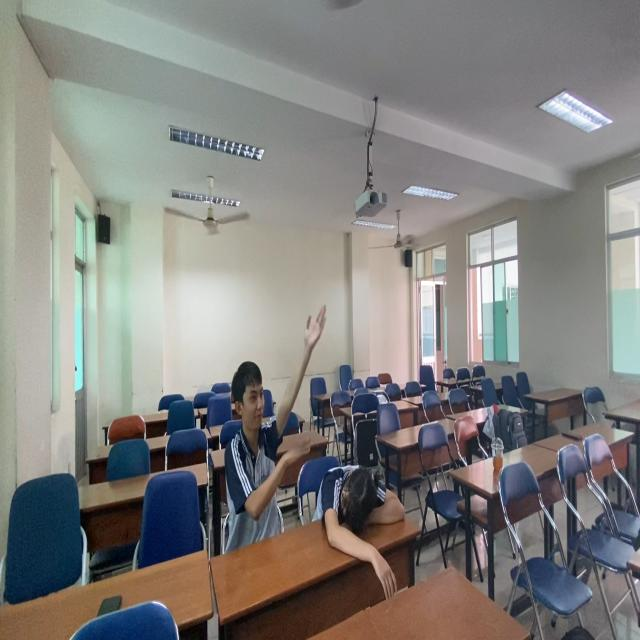raise_hand: (219, 305, 331, 545)
sleep: (305, 452, 413, 559)
